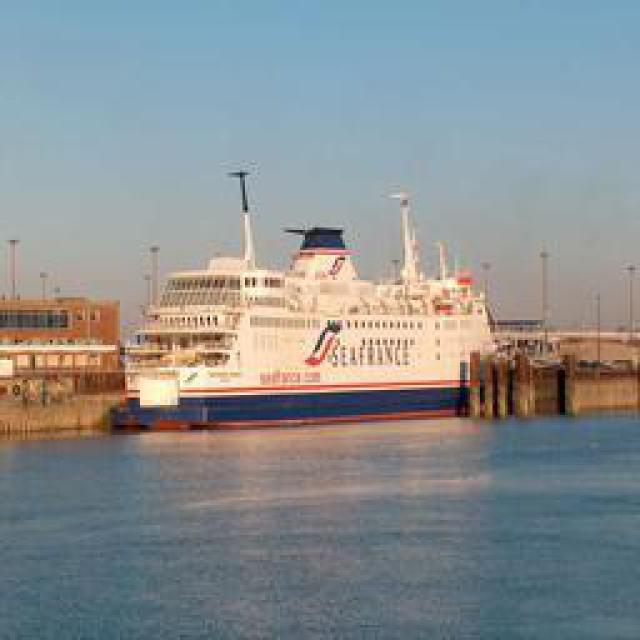Ship: (118, 167, 503, 430)
